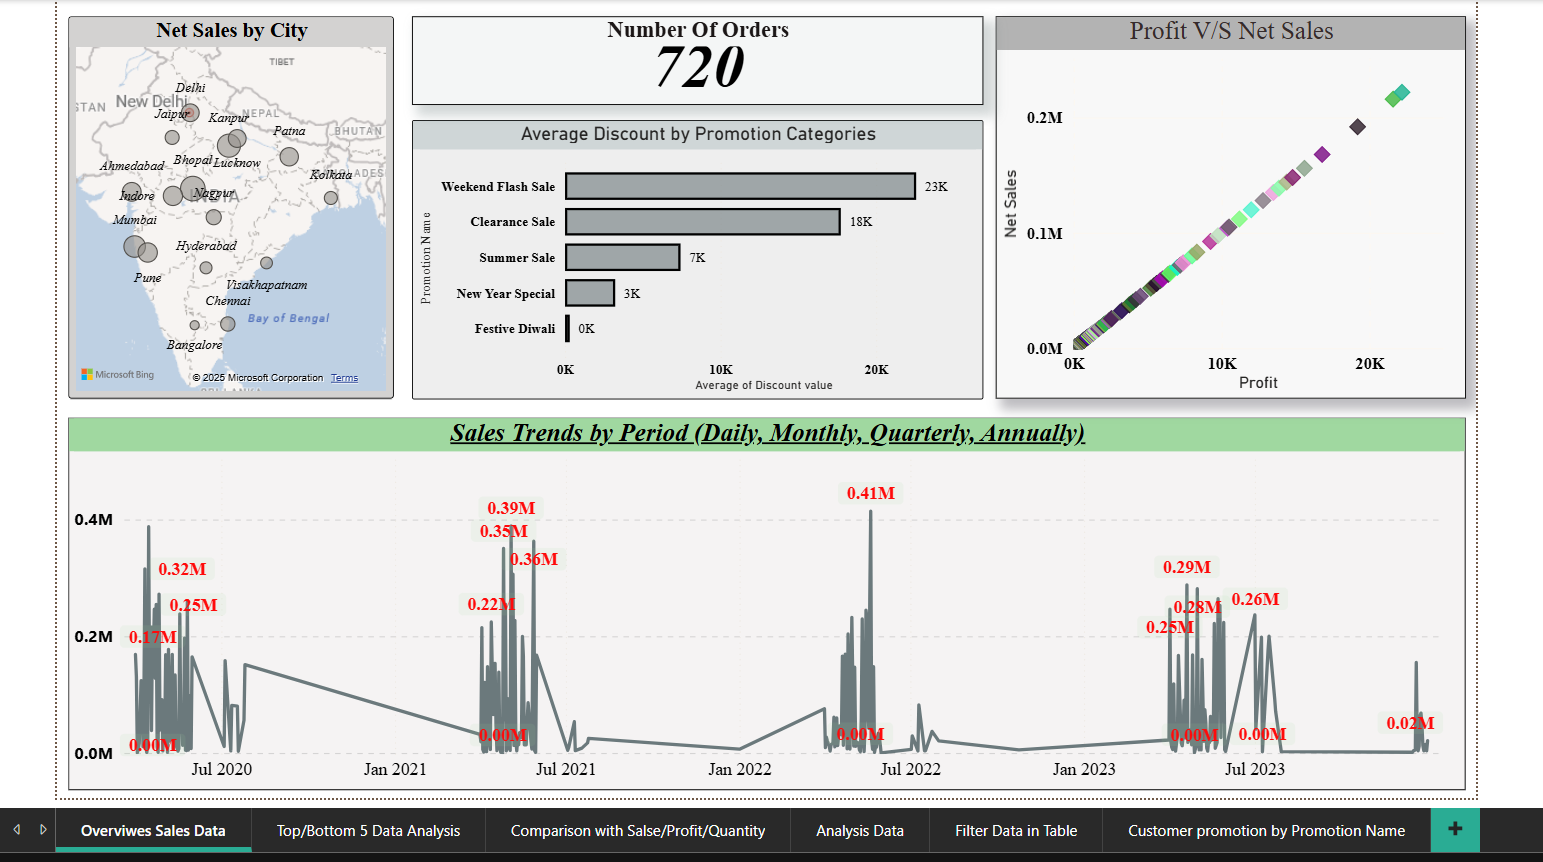

The page's visual inventory and layout, read from the dashboard file:
{"tool":"powerbi","page":{"name":"Overviwes Sales Data","canvas":[1280,720],"ordinal":0},"visuals":[{"type":"lineChart","title":" Sales Trends by Period (Daily, Monthly, Quarterly, Annually)","fields":{"Category":["Fact Table.Date (dd/mm/yyyy).Variation.Date Hierarchy.Year"],"Y":["Sum(Fact Table.Net Sales)"]},"box":[9.6,370.5,1261.1,336.2],"z":0},{"type":"scatterChart","title":" Profit V/S Net Sales","fields":{"X":["Fact Table.Profit"],"Y":["Fact Table.Net Sales"]},"box":[846.7,15.1,424,344.4],"z":1000},{"type":"barChart","title":"Average Discount by Promotion Categories","fields":{"Y":["Avg(Fact Table.Discount value)"],"Category":["Dim Promotion.Promotion Name"]},"box":[320,108.3,515,251.7],"z":2000},{"type":"map","title":"Net Sales by City","fields":{"Category":["Dim Customers.City"],"Size":["Sum(Fact Table.Net Sales)"]},"box":[9.6,15.1,293.7,344.4],"z":3000},{"type":"card","title":"Number Of Orders","fields":{"Values":["Count(Fact Table.OrderID)"]},"box":[320,15,515,80],"z":4000}]}

Visuals, with their boxes on the page's 1280x720 design canvas (x1, y1, x2, y2). These are canvas units, not pixel positions in the 1543x862 screenshot, which may show the page scaled, cropped or inside an application window:
" Sales Trends by Period (Daily, Monthly, Quarterly, Annually)" lineChart: [left=10, top=370, right=1271, bottom=707]
" Profit V/S Net Sales" scatterChart: [left=847, top=15, right=1271, bottom=360]
"Average Discount by Promotion Categories" barChart: [left=320, top=108, right=835, bottom=360]
"Net Sales by City" map: [left=10, top=15, right=303, bottom=360]
"Number Of Orders" card: [left=320, top=15, right=835, bottom=95]
